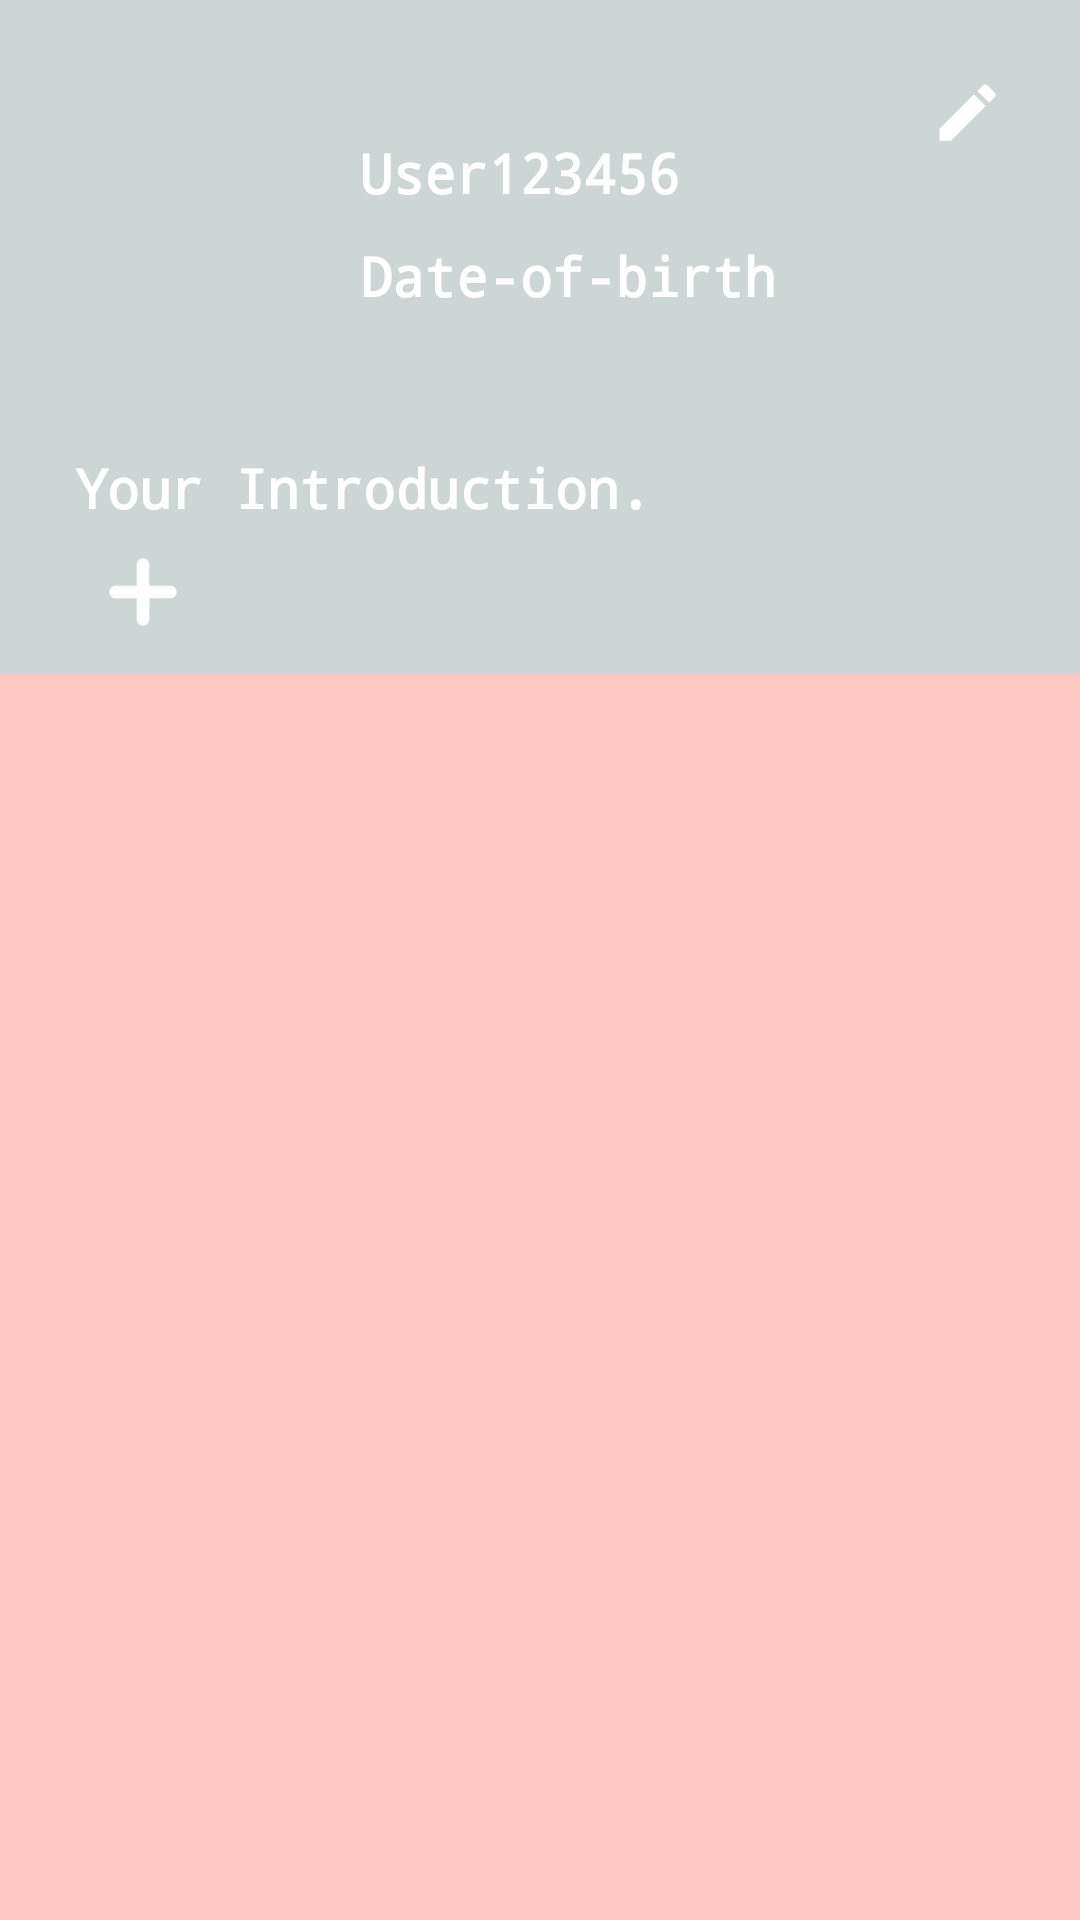

Named icons in this screenshot (1080×1920) and their bounding boxes, bbox=(x1, y1, x2, y2):
edit: bbox=(939, 85, 996, 141)
plusbutton: bbox=(109, 558, 177, 626)
